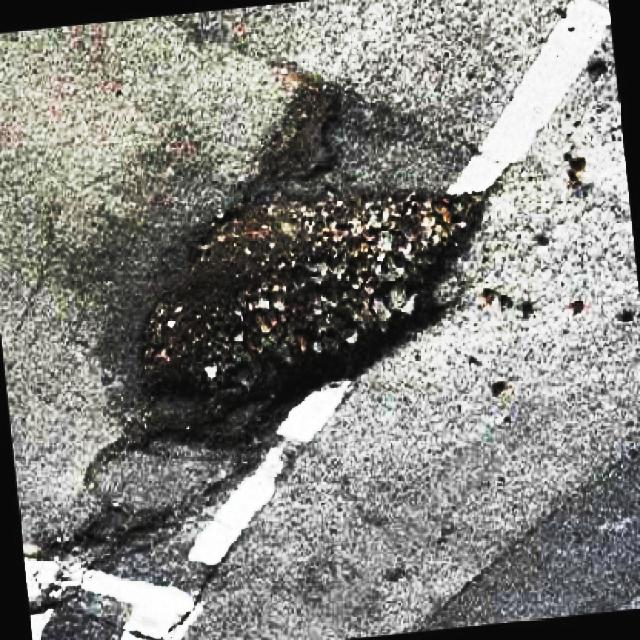pothole: (129, 72, 497, 465)
